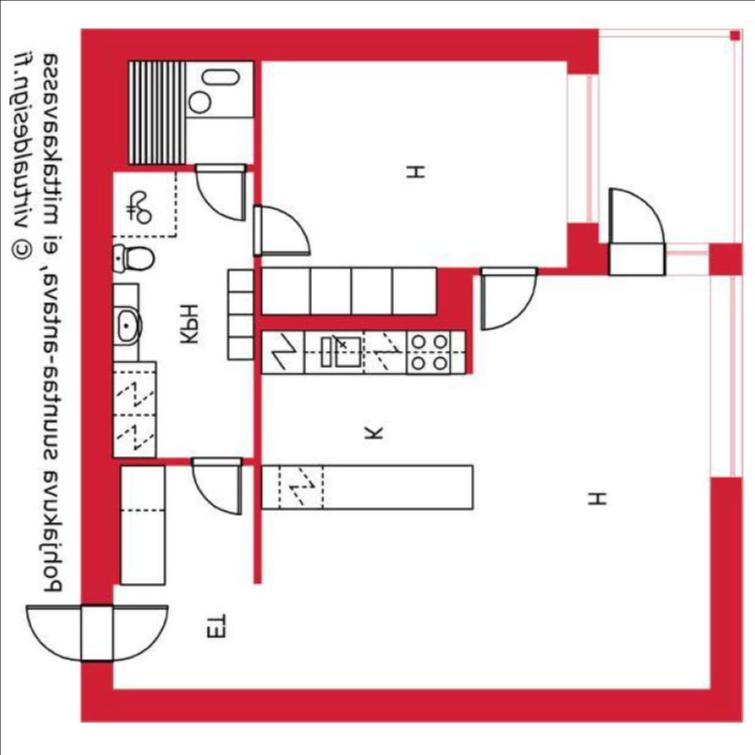door: (605, 182, 668, 283), (20, 599, 114, 664), (83, 599, 169, 659), (478, 254, 539, 332), (188, 451, 247, 521), (192, 156, 251, 224), (251, 201, 314, 259)
window: (704, 264, 748, 489), (558, 66, 603, 232), (662, 240, 720, 279)
